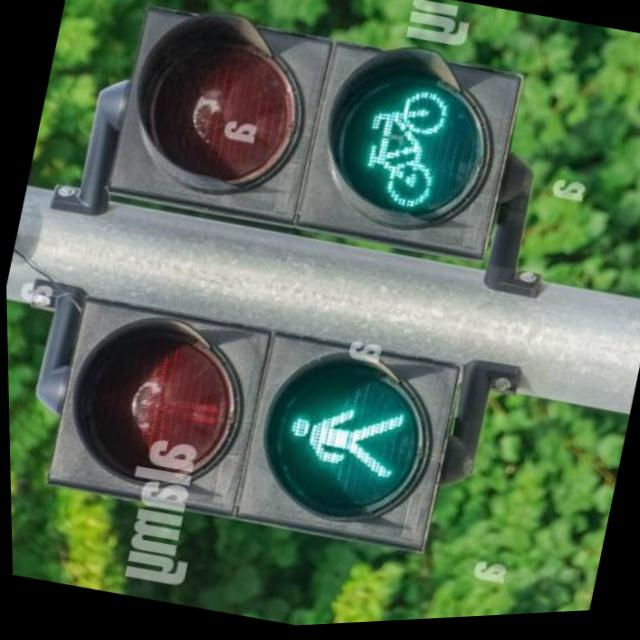green_light: (271, 378, 423, 502)
